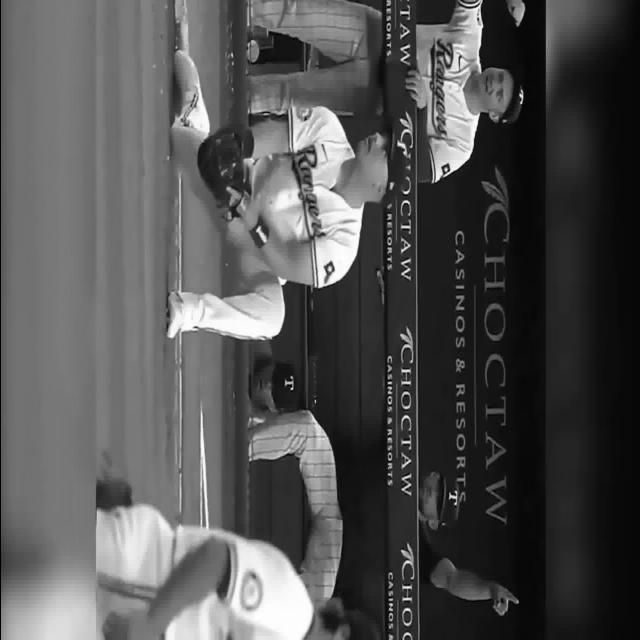base: (170, 3, 188, 132)
baseball_glove: (196, 124, 254, 220)
shoe: (174, 51, 208, 146), (166, 290, 183, 338)
